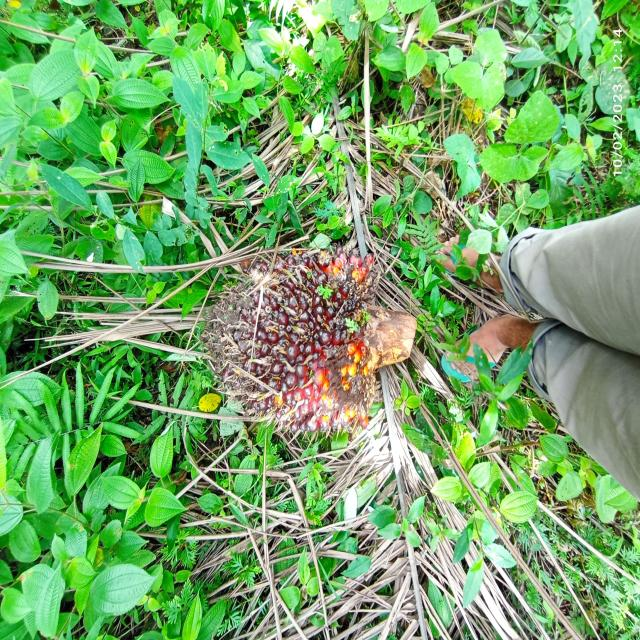fraksi 1: (185, 188, 422, 484)
